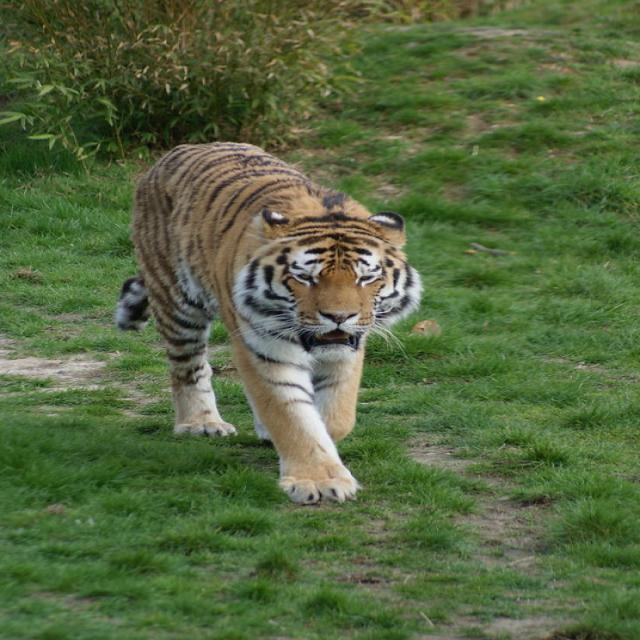Tiger: (109, 138, 422, 504)
